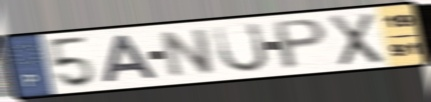5: (44, 34, 99, 89)
A: (99, 33, 162, 85)
N: (160, 26, 217, 80)
P: (272, 17, 330, 72)
U: (212, 21, 272, 75)
X: (327, 10, 386, 69)
